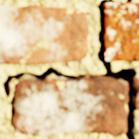brick: (0, 5, 88, 63), (104, 1, 138, 60)
broken_brick: (12, 77, 127, 135), (132, 76, 138, 134)
crack: (1, 0, 136, 138)
